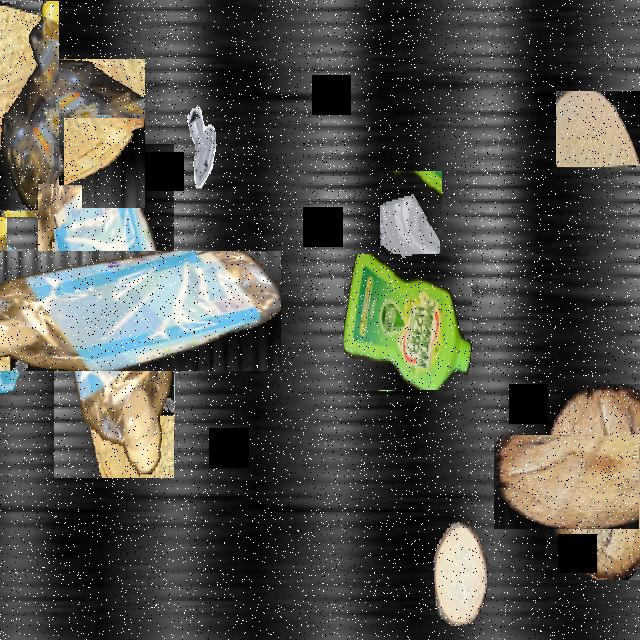glass: (0, 262, 85, 373), (380, 171, 442, 281), (0, 172, 44, 254)
metal: (180, 101, 228, 187), (38, 185, 82, 263)
plastic: (1, 198, 228, 424), (344, 254, 472, 390), (0, 2, 59, 212)
wood: (2, 61, 147, 206), (519, 409, 640, 554), (556, 91, 640, 165), (434, 522, 486, 626)
